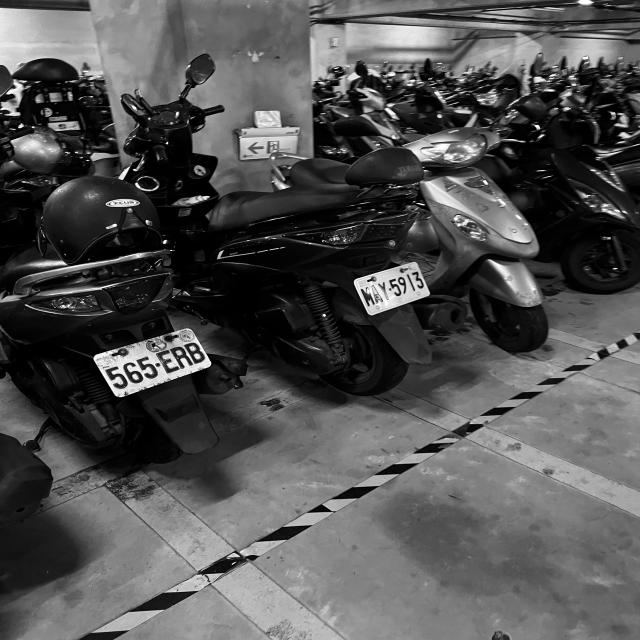-: (154, 362, 162, 368), (387, 287, 392, 292)
1: (404, 273, 417, 292)
3: (411, 270, 426, 290)
5: (104, 365, 131, 391), (135, 355, 161, 381), (388, 278, 403, 297)
6: (119, 360, 146, 385)
9: (396, 276, 411, 294)
A: (369, 284, 385, 304)
B: (183, 341, 208, 365)
E: (155, 349, 181, 374)
M: (359, 286, 376, 308)
R: (168, 346, 194, 369)
Y: (376, 281, 391, 301)
plate: (95, 330, 211, 394), (355, 264, 430, 314)
